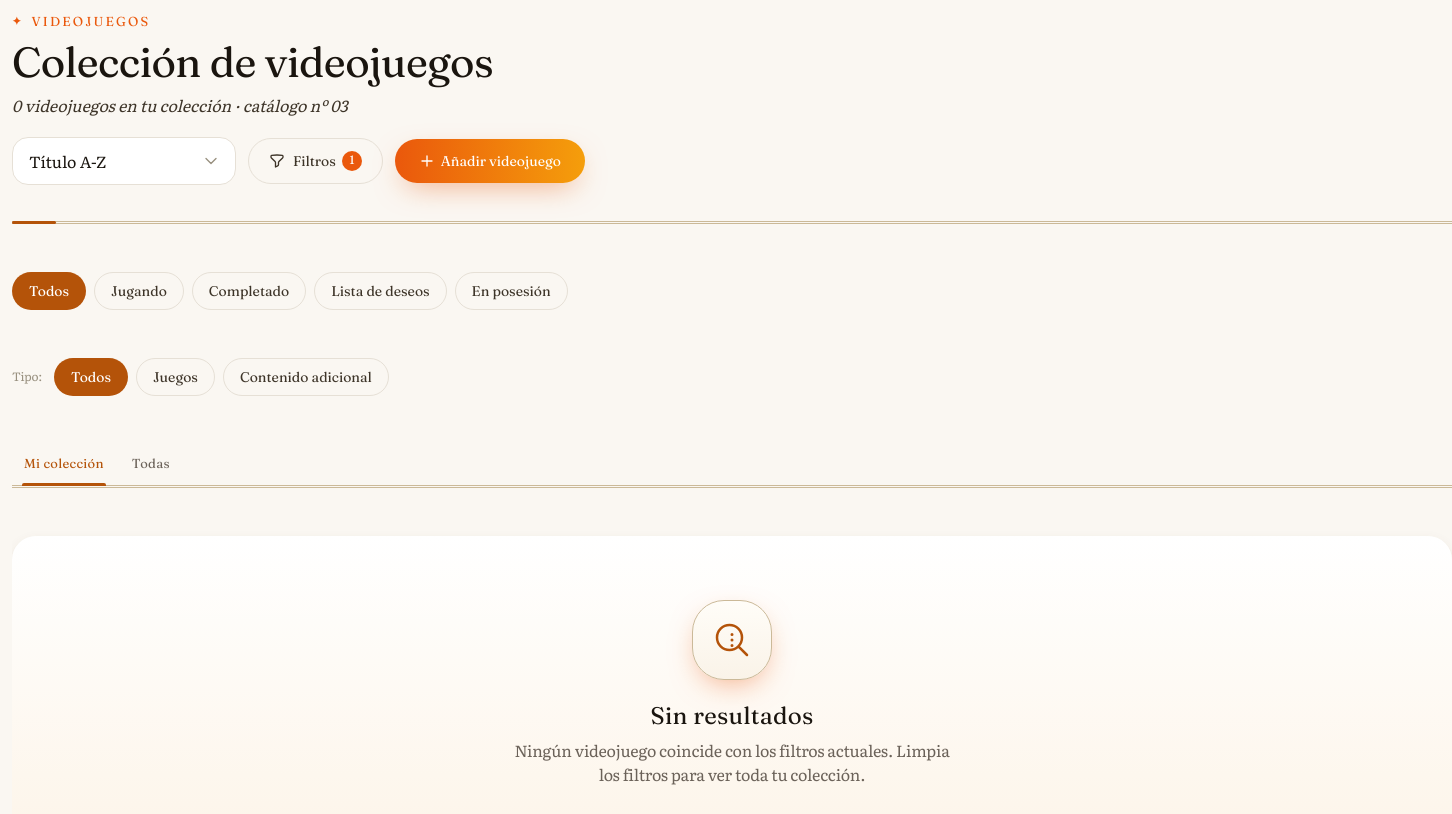
Test case: GameListPage filtro de plataformas › mantiene en el desplegable un filtro activo que el catálogo ya no lista
This screenshot has width=1452, height=814.
Click the button "Filtros 1" at (315, 161), box [248,138,383,184]
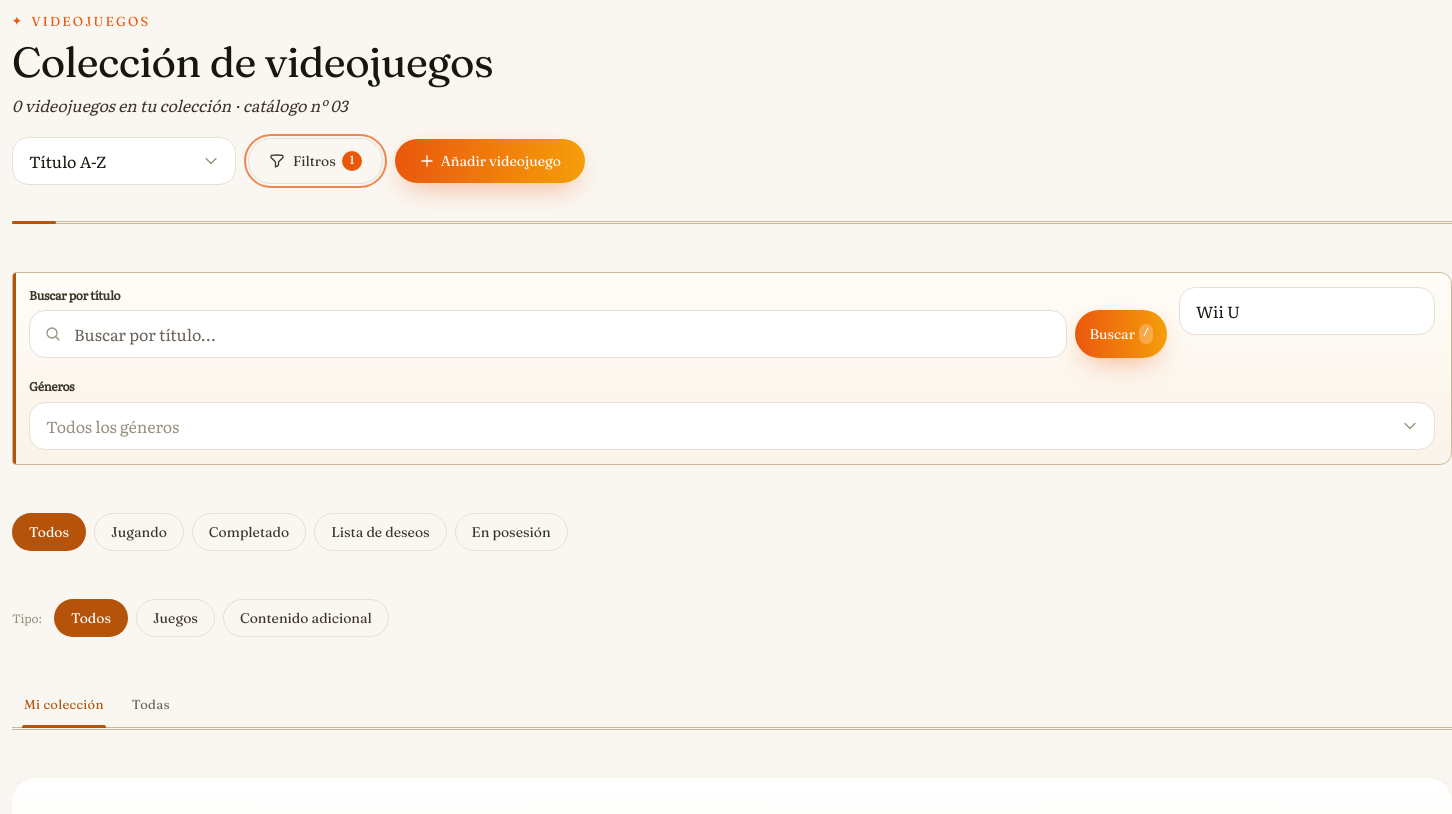
Result: the dropdown named "Filtrar por plataforma" holds "Wii U"
Click the dropdown named "Filtrar por plataforma" at (1307, 311), box [1179,287,1435,335]
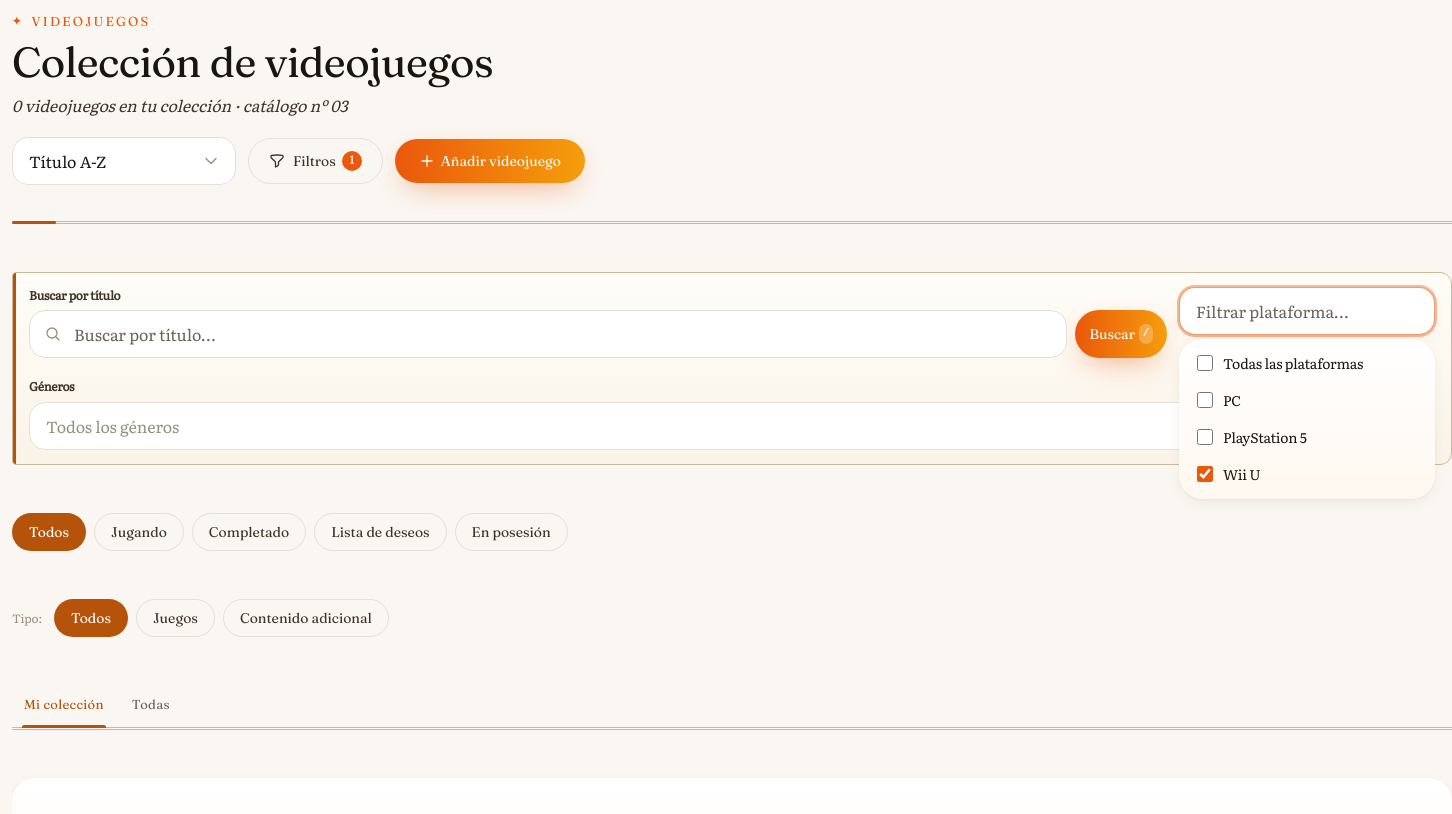
Result: the checkbox named "Wii U" is checked at [1197,466,1213,482]
